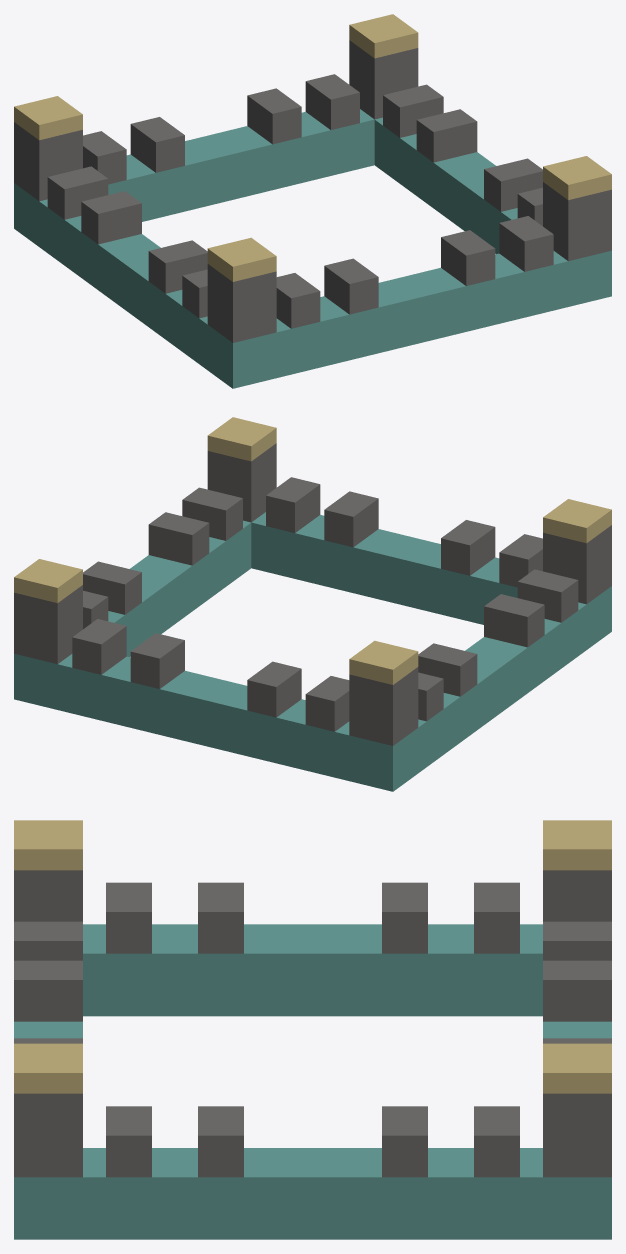
The model's file is crown.glb.
3 views of the same model, one above another, from view 1: azimuth 30°, elevation 25°; view 2: azimuth 150°, elevation 25°; view 3: azimuth 270°, elevation 25° (orthographic). The views are drawn at different scales.
Bounding box in the file's own units: 26 × 8 × 26.
